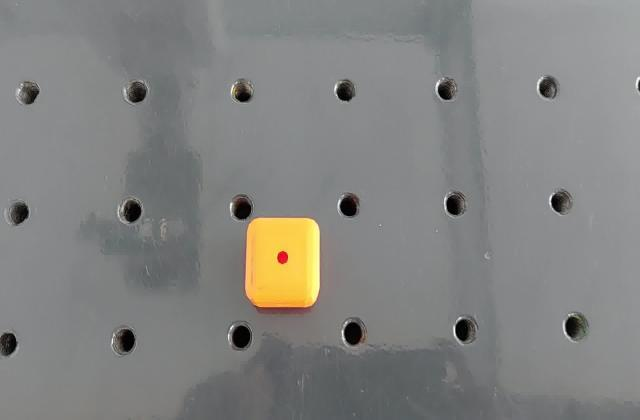cube: (244, 214, 323, 311)
